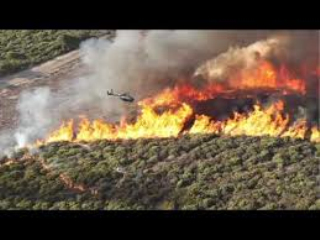fire: (30, 105, 312, 148), (144, 68, 306, 104)
smoke: (36, 34, 236, 80)
